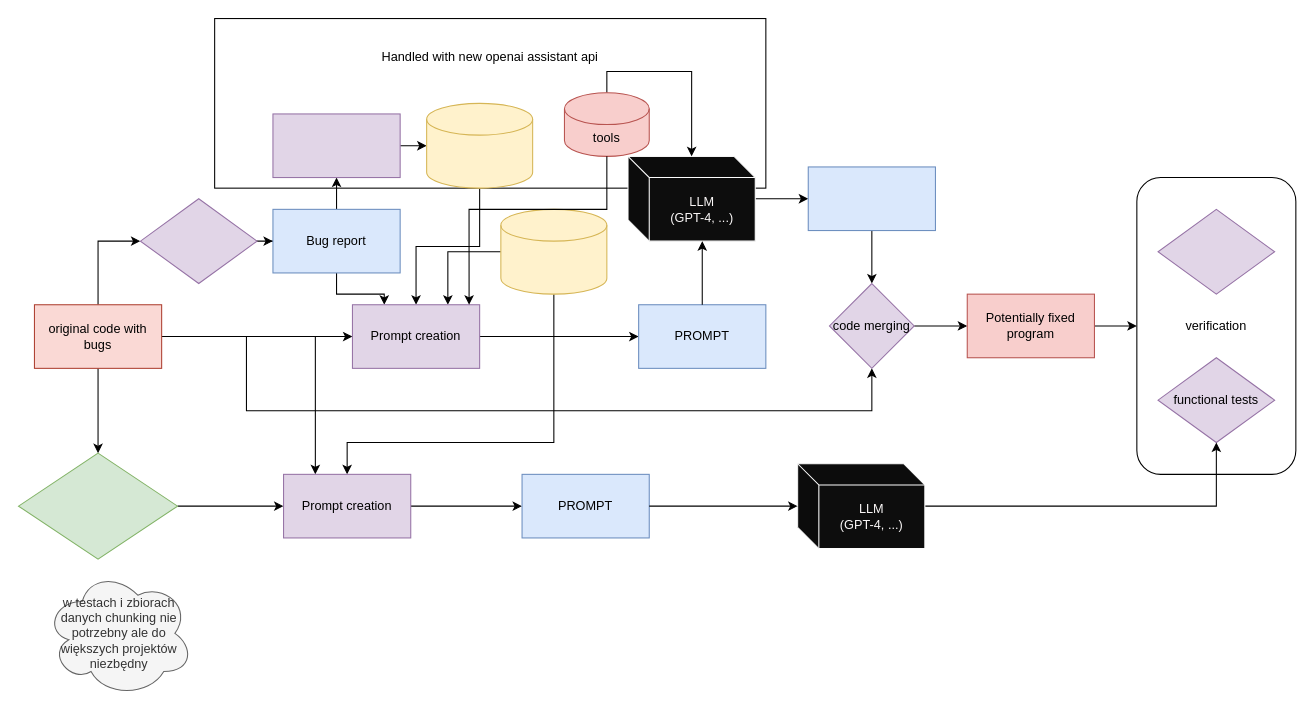
This 1314x715 diagram has some shape labels left out. Here are the shapes that lost their labels. From the top down, the centre of each, then its label:
At point 336,145: "Retrieval of documentation and CVEs using bug report".
At point 479,145: "Vector DB with CVEs and documentation".
At point 871,198: "completion/generation".
At point 198,241: "security test (CodeQL)".
At point 553,251: "Prompt Templates".
At point 1216,251: "security tests".
At point 97,505: "if tests were not supplied, generate them".
